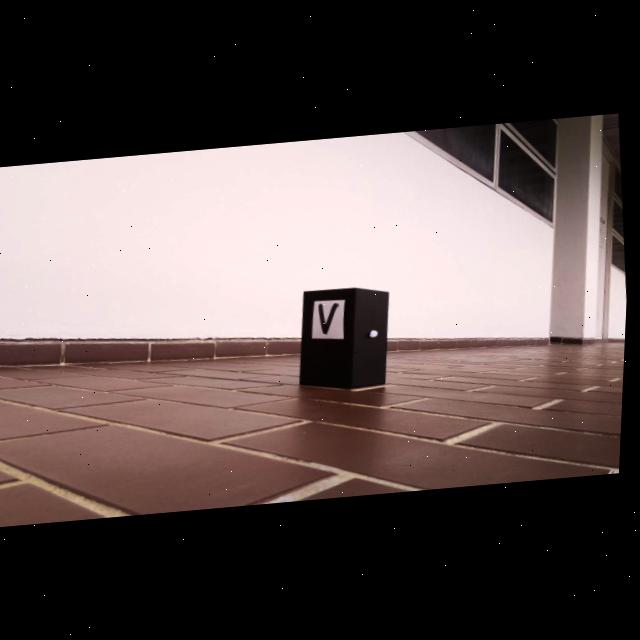V: (321, 303, 340, 333)
